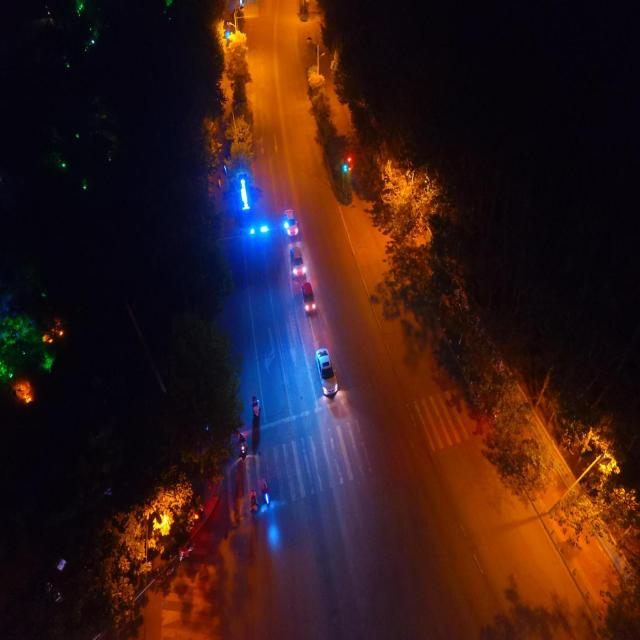car: (314, 347, 338, 397), (289, 246, 307, 280), (301, 282, 316, 315), (282, 208, 298, 236)
person: (238, 431, 247, 459), (261, 478, 270, 506), (249, 490, 258, 516)
